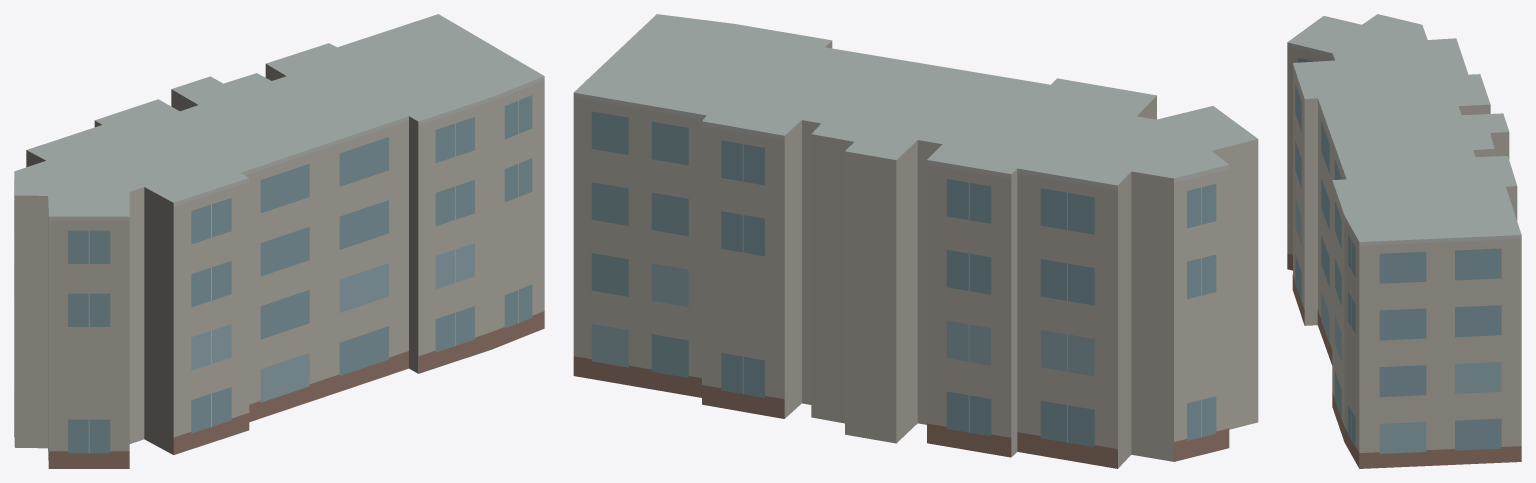
File: survey-upis-32688354.glb
3 renders of one model, left to right at view 1: azimuth 30°, elevation 25°; view 2: azimuth 150°, elevation 25°; view 3: azimuth 270°, elevation 25°, orthographic. The views are drawn at different scales.
Parts seen in each view (by area): view 1: survey-upis-32688354.tmp; view 2: survey-upis-32688354.tmp; view 3: survey-upis-32688354.tmp.
Boxes of the visible parts, bbox=[...] form: survey-upis-32688354.tmp: bbox=[14, 14, 544, 468]; survey-upis-32688354.tmp: bbox=[573, 14, 1258, 468]; survey-upis-32688354.tmp: bbox=[1287, 14, 1521, 468].
Bounding box in the file's own units: 31.87 × 14.78 × 13.85.
